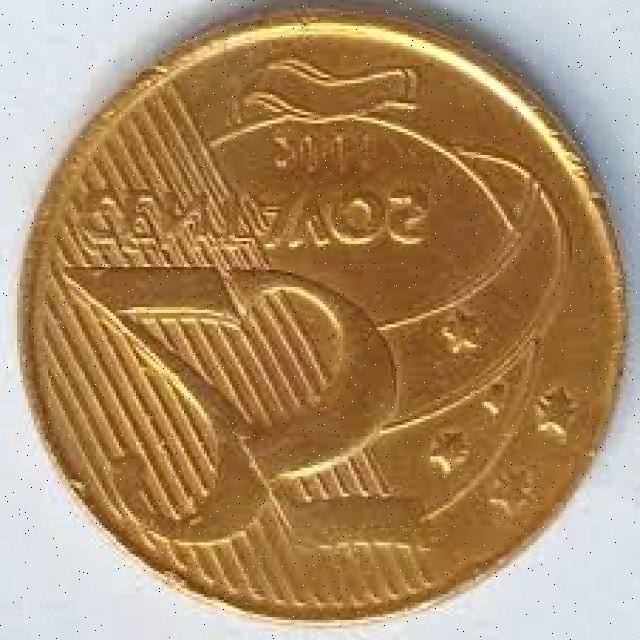25 cent: (27, 25, 620, 626)
